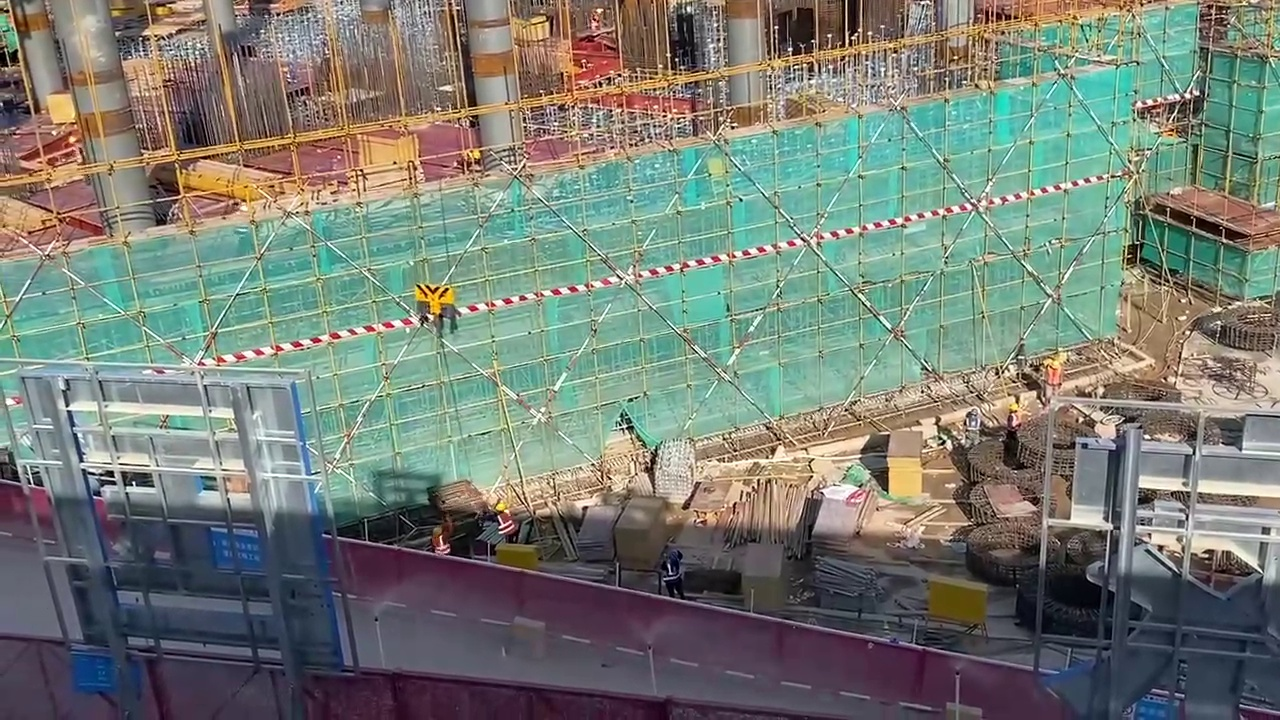board: (885, 430, 925, 493)
fence: (5, 634, 706, 720)
hook: (415, 284, 453, 314)
person: (657, 544, 688, 599), (488, 497, 514, 536), (428, 520, 452, 556)
vest: (496, 512, 515, 536), (432, 537, 452, 553)
wood: (730, 477, 802, 558)
